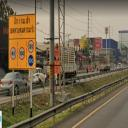speed_limit_100: (18, 45, 26, 62)
speed_limit_120: (27, 38, 35, 53)
speed_limit_80: (10, 44, 17, 62)
